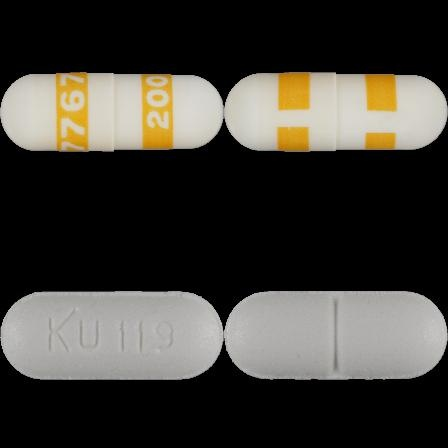67544-204: (0, 0, 224, 224)
